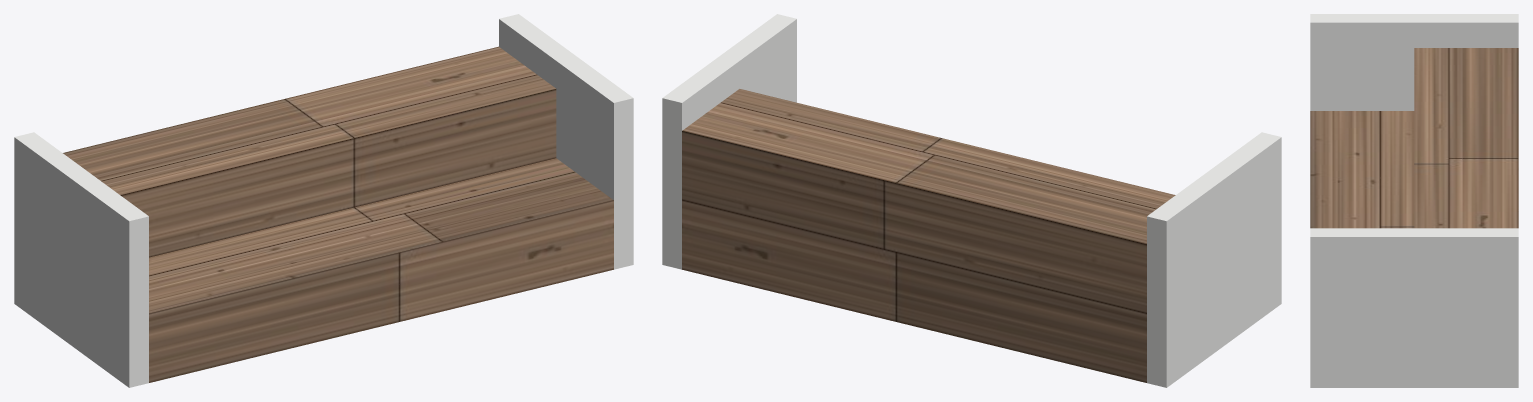
File: porch_steps.glb
3 renders of one model, left to right at view 1: azimuth 30°, elevation 25°; view 2: azimuth 150°, elevation 25°; view 3: azimuth 270°, elevation 25°, orthographic. The views are drawn at different scales.
Visible parts, largest first — view 1: porch_steps_deck, porch_steps_trim; view 2: porch_steps_deck, porch_steps_trim; view 3: porch_steps_trim, porch_steps_deck.
Part boxes in pixels (x1,y1,x2,y2): porch_steps_deck: (63,46,613,382); porch_steps_trim: (14,14,633,387); porch_steps_deck: (682,89,1175,382); porch_steps_trim: (662,14,1281,387); porch_steps_trim: (1310,14,1518,387); porch_steps_deck: (1310,48,1518,228).
Size of the model in its own units: 1.52 by 0.48 by 0.6.
2 materials, 1 textured.
